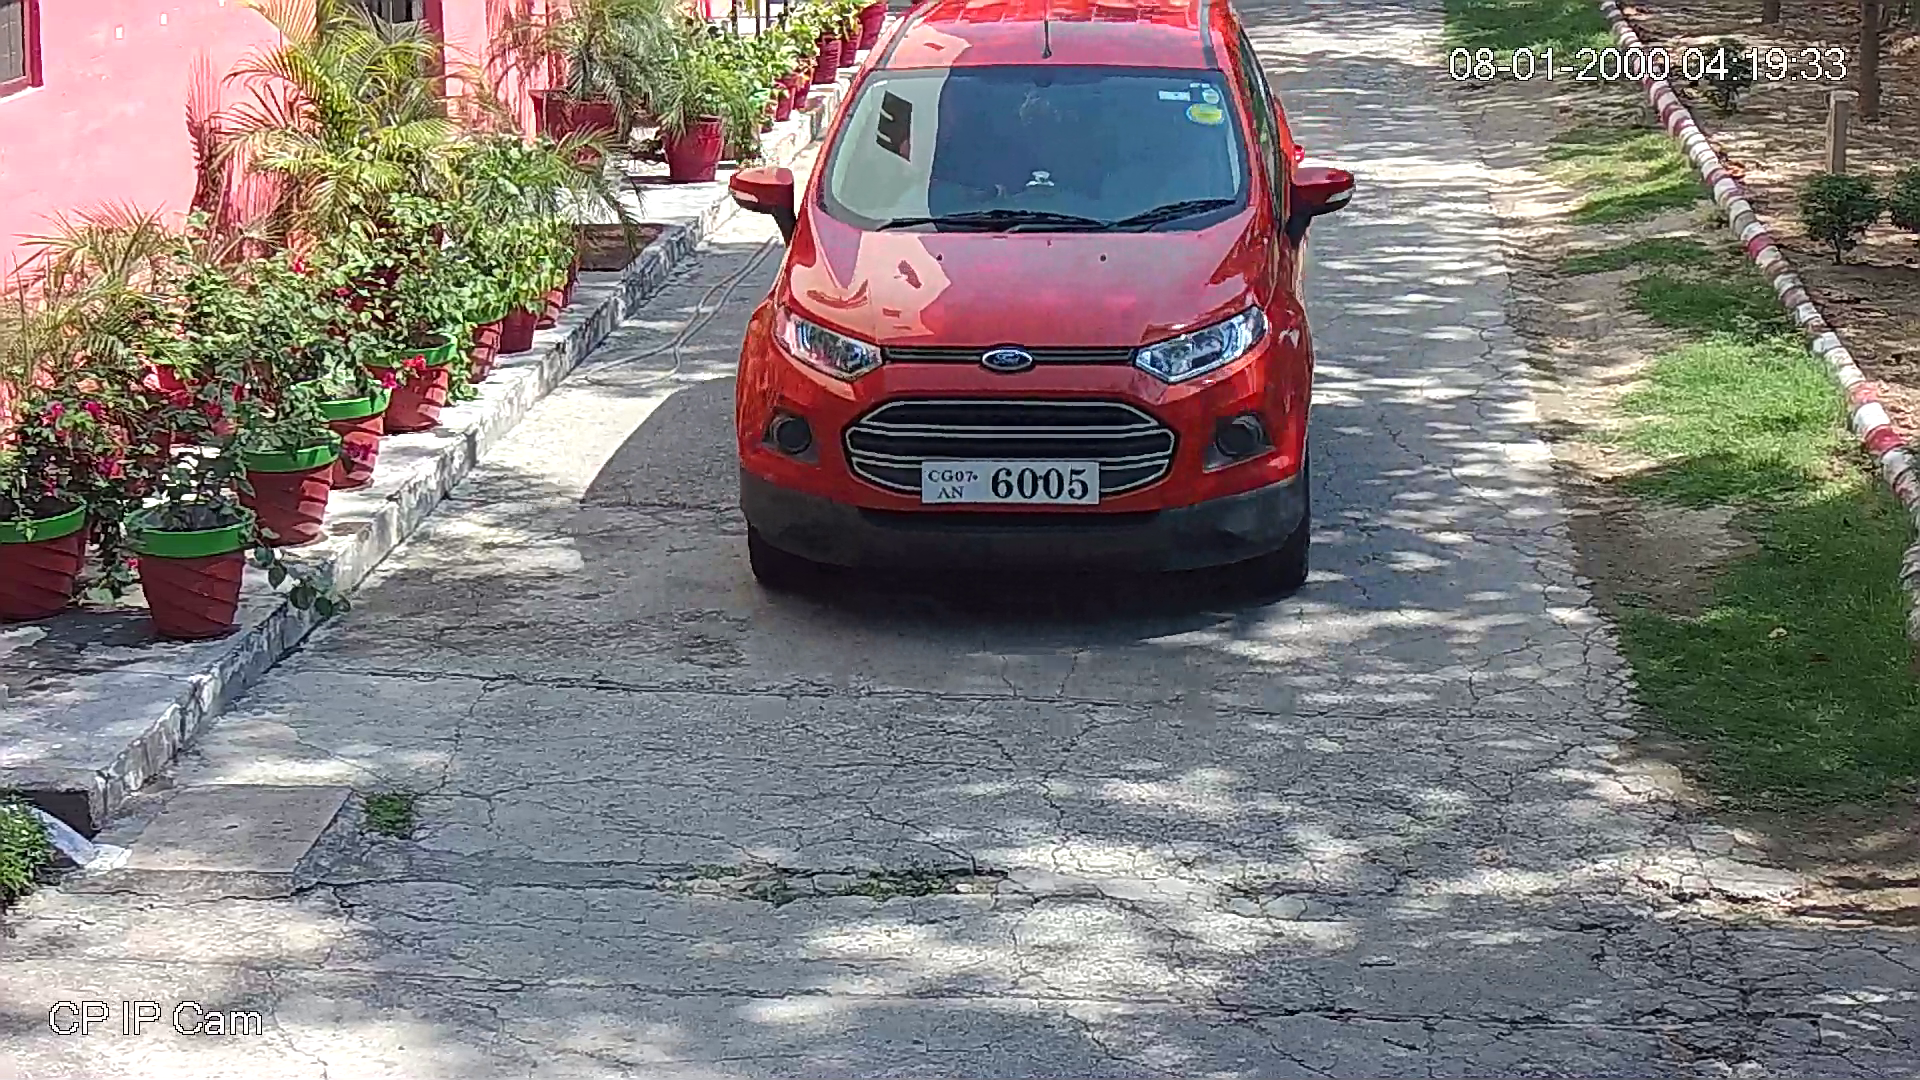plate: (916, 456, 1102, 507)
